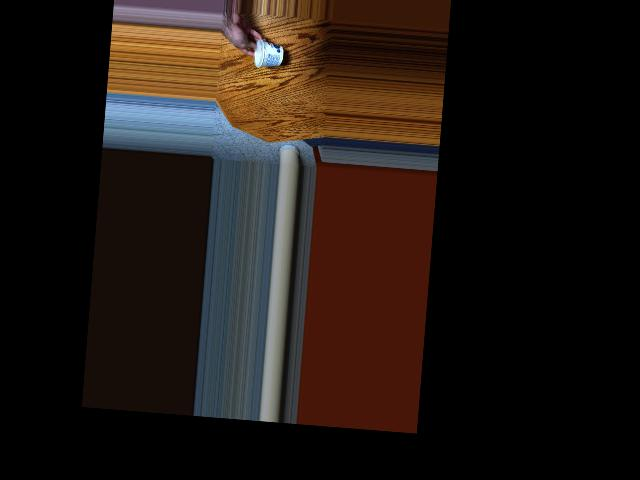cotage: (248, 41, 279, 71)
